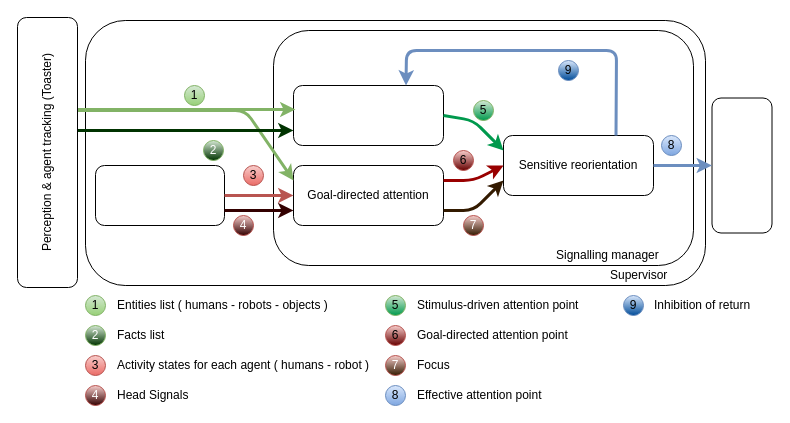
Some shapes in this 790 by 423 pixel diagram are drawn without their labels. The box of each missing label's shape, as (x1, y1, x2, y2) in pixels:
Activity states machines: (94, 164, 224, 226)
Head control (Pr2motion): (711, 97, 772, 233)
Stimulus-driven attention: (292, 84, 444, 146)
